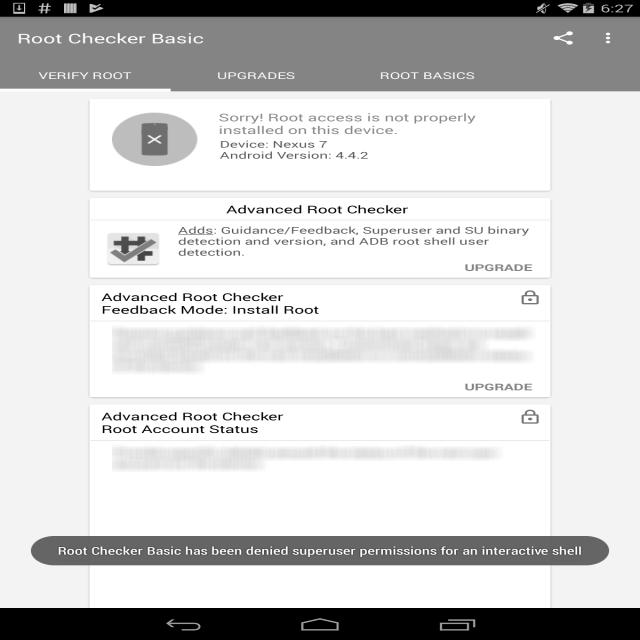ImageView: (112, 113, 197, 166), (101, 228, 166, 268), (589, 22, 631, 54), (517, 290, 543, 306), (517, 409, 543, 425)
TextView: (103, 321, 550, 378), (103, 441, 550, 475), (178, 224, 532, 258), (219, 110, 532, 137), (95, 286, 325, 320), (95, 405, 295, 440), (215, 198, 425, 220), (219, 137, 370, 162), (17, 29, 204, 47), (538, 22, 588, 54), (464, 381, 550, 396), (379, 69, 474, 82), (38, 69, 132, 82), (217, 69, 295, 82), (465, 261, 532, 274)
